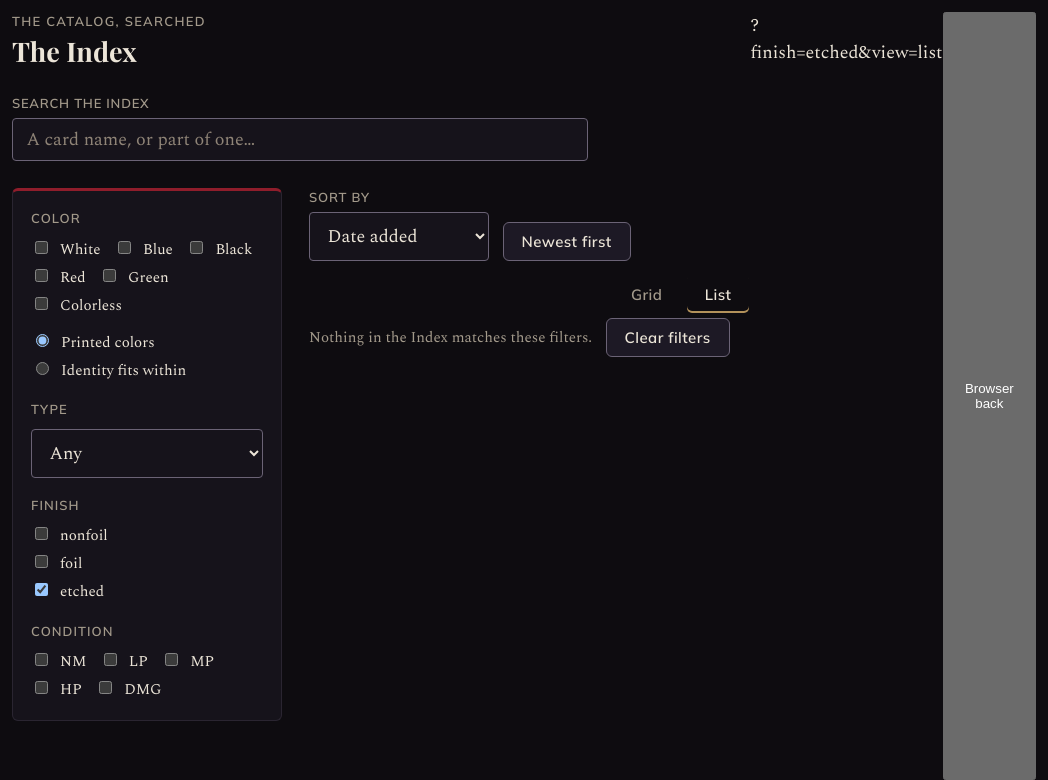
Test: IndexPage › says nothing matches when filters empty the result, and clears them
This screenshot has width=1048, height=780.
Step 1. Click the button "Clear filters" → (668, 338), box [606, 318, 730, 357]
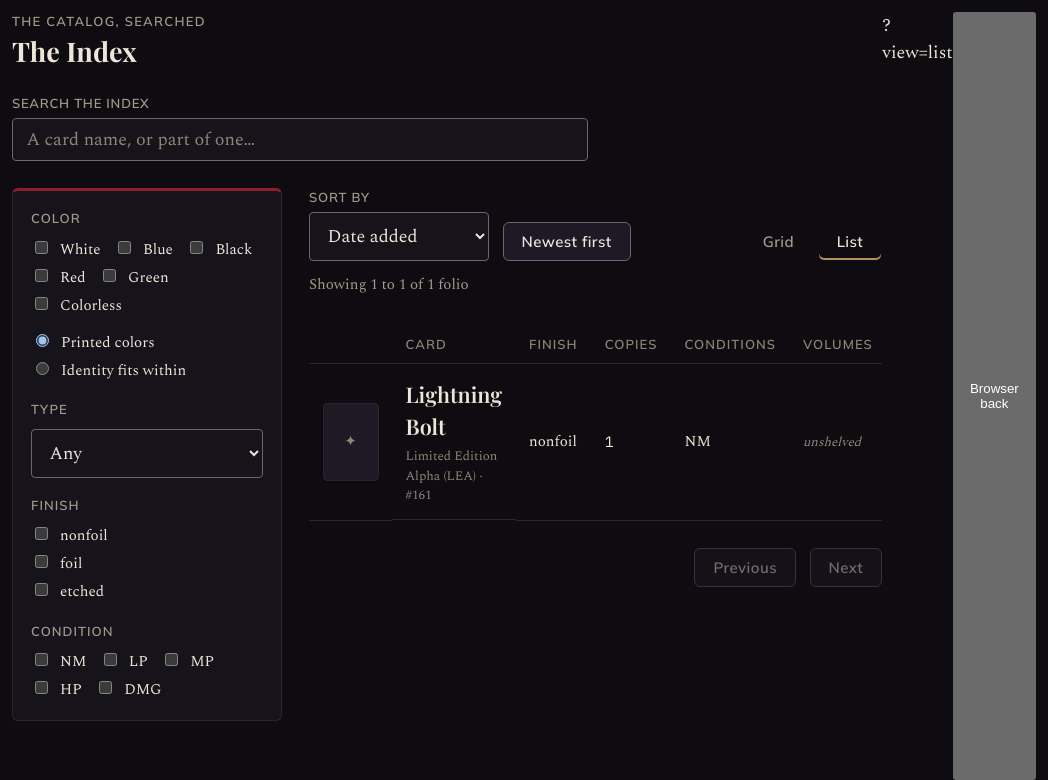
Expected: the text named "Index URL" reads "?view=list", [882, 12, 953, 66]
Expected: the link "Lightning Bolt" is shown, [406, 378, 502, 443]
Expected: the checkbox labelled "etched" is not checked, [35, 583, 48, 596]
